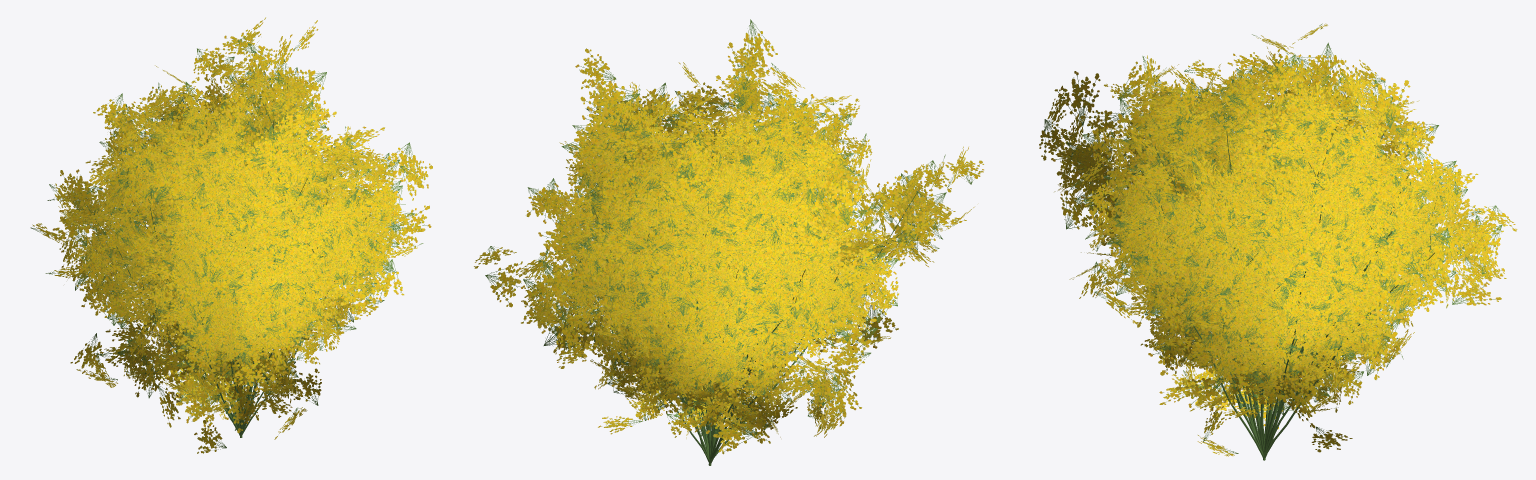
The model's file is BR3_Broom_BigInFlower_3m.glb.
The picture shows the model from 3 angles, left to right: view 1: azimuth 30°, elevation 25°; view 2: azimuth 150°, elevation 25°; view 3: azimuth 270°, elevation 25°; orthographic projection. The views are drawn at different scales.
Parts seen in each view (by area): view 1: BR3_leaves, BR3_wood; view 2: BR3_leaves, BR3_wood; view 3: BR3_leaves, BR3_wood.
Part boxes in pixels (x1=…): BR3_leaves: x1=30, y1=17, x2=432, y2=453; BR3_wood: x1=88, y1=66, x2=371, y2=437; BR3_leaves: x1=474, y1=19, x2=983, y2=454; BR3_wood: x1=572, y1=101, x2=921, y2=465; BR3_leaves: x1=1039, y1=23, x2=1517, y2=456; BR3_wood: x1=1077, y1=103, x2=1443, y2=460.
Size of the model in its own units: 2.89 by 3 by 3.16.
2 materials, 2 textured.
